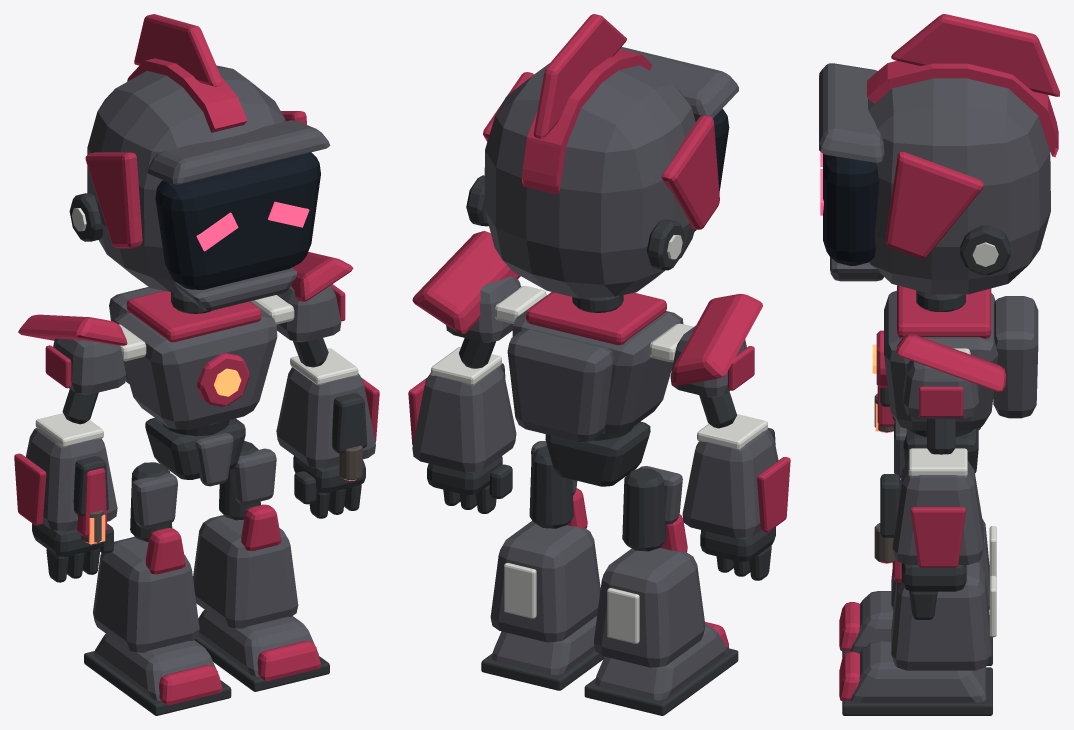
File: espadachim.glb
The picture shows the model from 3 angles, left to right: view 1: azimuth 30°, elevation 25°; view 2: azimuth 150°, elevation 25°; view 3: azimuth 270°, elevation 25°; orthographic projection. The views are drawn at different scales.
Parts seen in each view (by area): view 1: visor, cabeca_p, tronco_p, bota.001, bota, testa, antebraco, antebraco.001, placa_lado.001, pe.001, pluma, gola (+40 smaller); view 2: cabeca_p, mochila, bota.001, bota, antebraco, antebraco.001, tronco_p, ombreira, ombreira.001, pluma, crista, gola (+30 smaller); view 3: cabeca_p, bota, pluma, placa_lado, visor, pe, testa, antebraco, mochila, tronco_p, crista, gola (+25 smaller).
Part boxes in pixels (<box>): visor: <box>155,152,320,289</box>; cabeca_p: <box>87,65,285,292</box>; tronco_p: <box>114,301,277,429</box>; bota.001: <box>93,536,199,652</box>; bota: <box>193,515,298,628</box>; testa: <box>147,120,330,184</box>; antebraco: <box>276,367,375,468</box>; antebraco.001: <box>26,428,117,531</box>; placa_lado.001: <box>85,152,142,248</box>; pe.001: <box>94,634,220,700</box>; pluma: <box>134,14,223,86</box>; gola: <box>126,291,261,342</box>; cabeca_p: <box>484,63,695,298</box>; mochila: <box>507,329,613,442</box>; bota.001: <box>593,548,705,667</box>; bota: <box>490,521,600,642</box>; antebraco: <box>412,366,516,472</box>; antebraco.001: <box>682,430,778,538</box>; tronco_p: <box>512,292,683,434</box>; ombreira: <box>412,231,520,333</box>; ombreira.001: <box>672,294,762,385</box>; pluma: <box>533,14,626,138</box>; crista: <box>521,49,652,194</box>; gola: <box>526,292,666,345</box>; cabeca_p: <box>868,78,1050,294</box>; bota: <box>891,562,991,670</box>; pluma: <box>891,14,1059,96</box>; placa_lado: <box>885,151,983,258</box>; visor: <box>823,154,878,265</box>; pe: <box>850,641,986,702</box>; testa: <box>819,63,884,162</box>; antebraco: <box>892,460,983,564</box>; mochila: <box>993,296,1038,418</box>; tronco_p: <box>884,290,998,430</box>; crista: <box>867,61,1058,157</box>; gola: <box>897,285,991,338</box>.
Bounding box in the file's own units: 0.692 × 1.23 × 0.4075.
